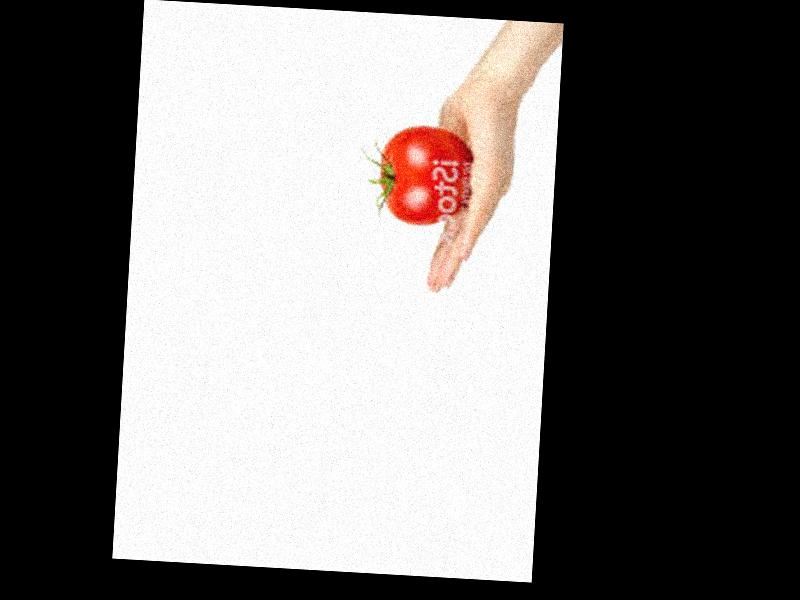Tomato: (375, 123, 472, 226)
